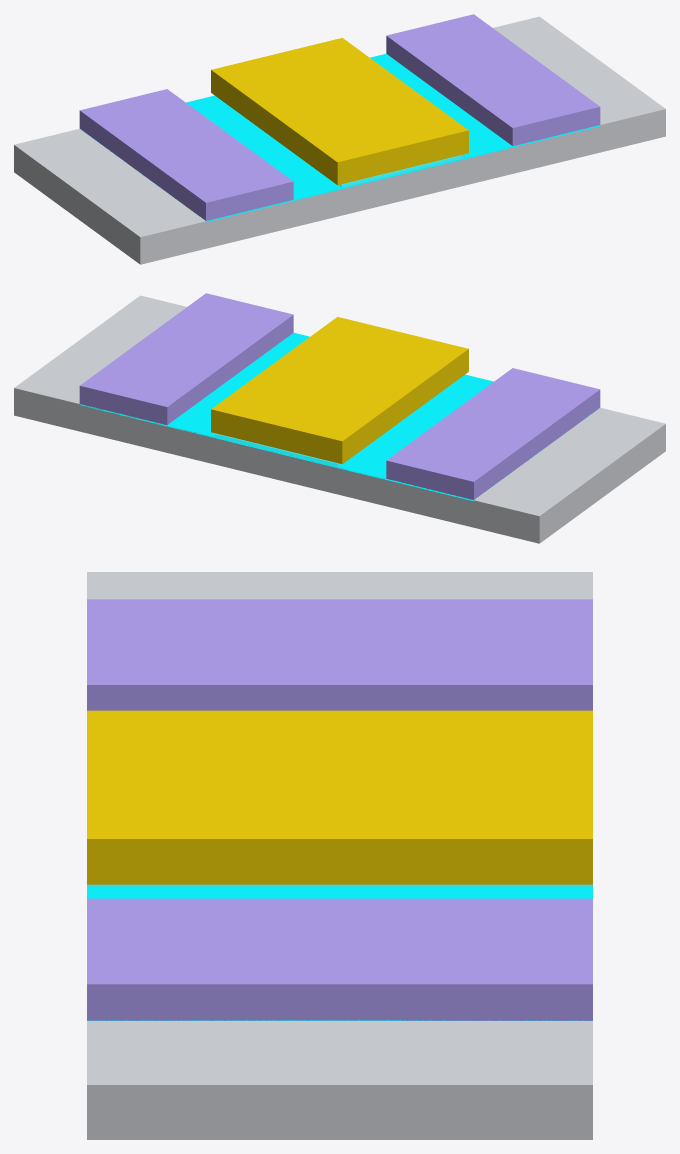
Rendered from MOSFET.glb.
3 renders of one model, top to bottom at view 1: azimuth 30°, elevation 25°; view 2: azimuth 150°, elevation 25°; view 3: azimuth 270°, elevation 25°, orthographic. The views are drawn at different scales.
Parts seen in each view (by area): view 1: Si_Substrate, Gate, Source, Drain, Channel, Gate_Oxide; view 2: Si_Substrate, Gate, Source, Drain, Channel, Gate_Oxide, Spacer_R, Spacer_L; view 3: Gate, Si_Substrate, Drain, Source, Channel, Spacer_L, Gate_Oxide.
Boxes of the visible parts, bbox=[...] form: Si_Substrate: bbox=[14, 16, 665, 264]; Gate: bbox=[211, 38, 468, 185]; Source: bbox=[79, 89, 293, 220]; Drain: bbox=[386, 14, 600, 145]; Channel: bbox=[80, 54, 600, 222]; Gate_Oxide: bbox=[339, 154, 464, 187]; Si_Substrate: bbox=[14, 295, 665, 543]; Gate: bbox=[211, 317, 468, 464]; Source: bbox=[386, 368, 600, 499]; Drain: bbox=[79, 293, 293, 424]; Channel: bbox=[80, 333, 593, 501]; Gate_Oxide: bbox=[215, 433, 340, 466]; Spacer_R: bbox=[211, 317, 343, 429]; Spacer_L: bbox=[335, 349, 467, 462]; Gate: bbox=[87, 710, 592, 884]; Si_Substrate: bbox=[87, 572, 592, 1139]; Drain: bbox=[87, 898, 592, 1020]; Source: bbox=[87, 599, 592, 710]; Channel: bbox=[87, 884, 592, 1020]; Spacer_L: bbox=[87, 710, 592, 718]; Gate_Oxide: bbox=[87, 885, 592, 887].
Size of the model in its own units: 24 by 2.37 by 10.
